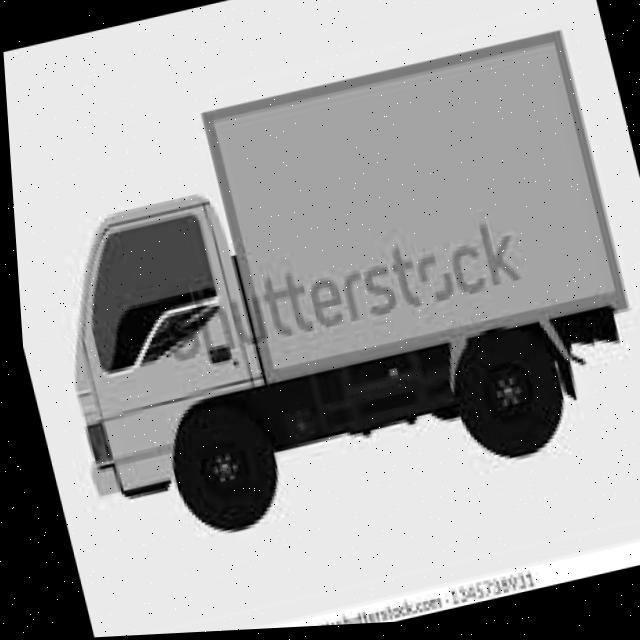truck: (15, 160, 336, 564)
